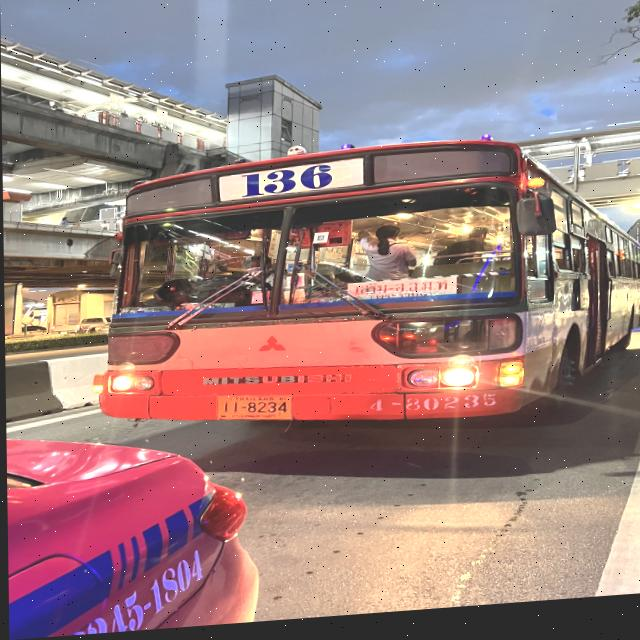BMTA-bus: (89, 135, 640, 450)
Bus-Line-Number: (229, 168, 337, 201)
Destination-Sign-Extra-Bus: (344, 281, 457, 308)
